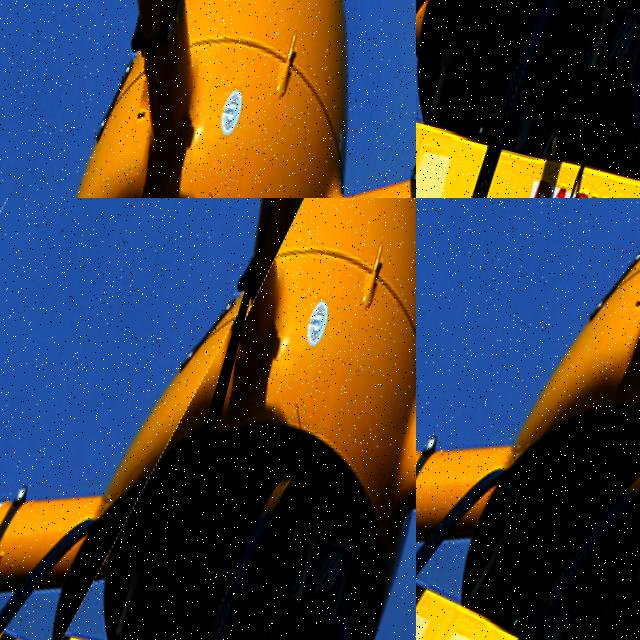0: (0, 198, 286, 640)
drone: (416, 198, 640, 640)
